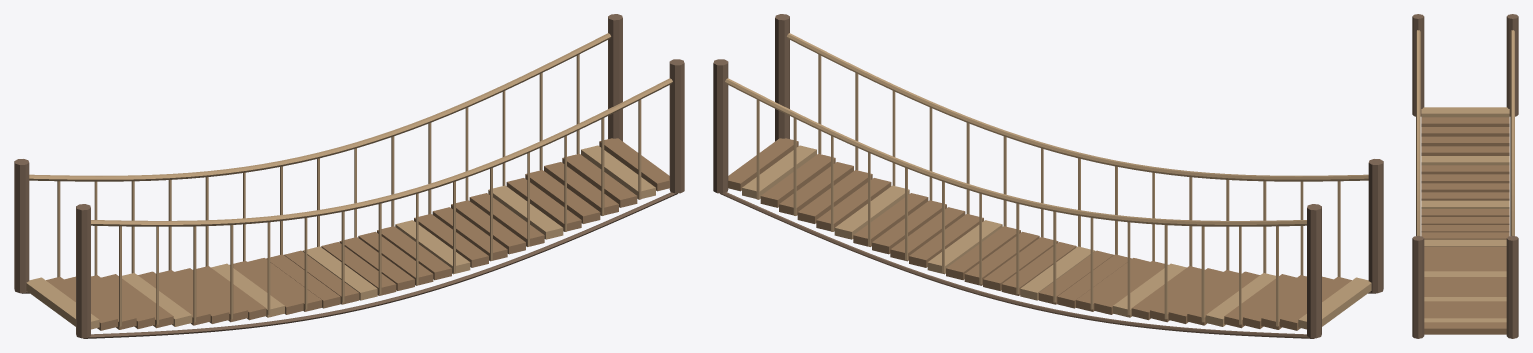
The model's file is Bridge_Rope_Complete_8m.fbx.
3 renders of one model, left to right at view 1: azimuth 30°, elevation 25°; view 2: azimuth 150°, elevation 25°; view 3: azimuth 270°, elevation 25°, orthographic. The views are drawn at different scales.
Parts seen in each view (by area): view 1: Bridge_Rope_Complete_8m; view 2: Bridge_Rope_Complete_8m; view 3: Bridge_Rope_Complete_8m.
Boxes of the visible parts, x1,y1,x2,y2 form: Bridge_Rope_Complete_8m: (14, 14, 684, 338); Bridge_Rope_Complete_8m: (713, 14, 1383, 338); Bridge_Rope_Complete_8m: (1412, 14, 1518, 338).
Bounding box in the file's own units: 818 × 219 × 162.
